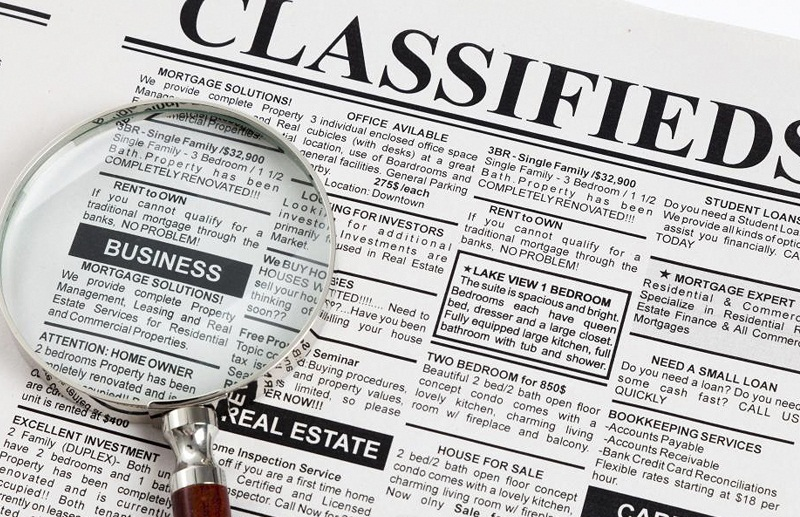news_paper: (1, 1, 800, 517)
